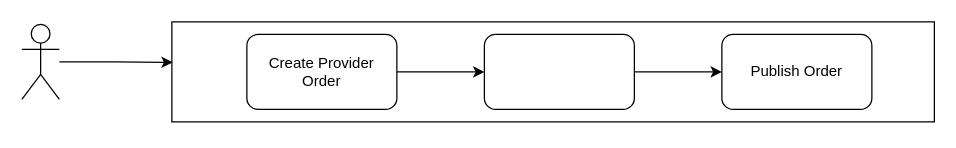
The diagram is 956 pixels wide and 148 high, and some of its shapes have lost their labels. The shapes that lost their labels are listed below. From the top down, each one's centre as x and y in pixels, then its label:
At point 40,61: "User".
At point 558,71: "Create Order".
